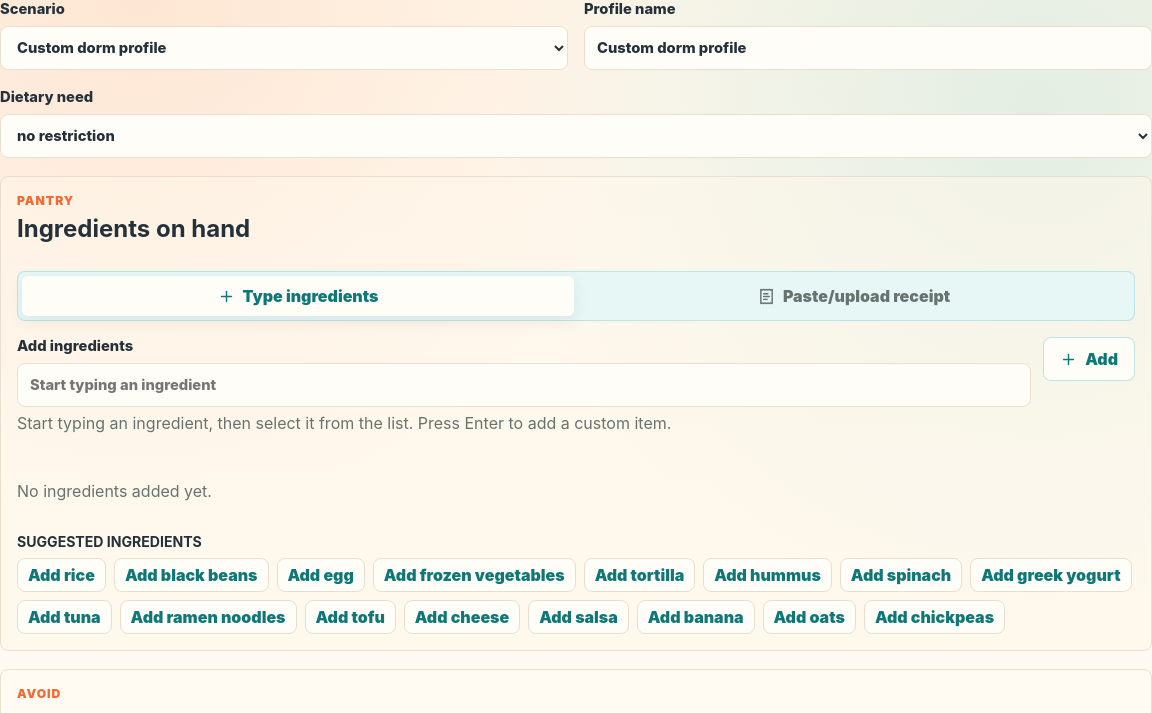
Test case: PreferenceForm › adds suggested ingredients as chips
Click the button "Add tuna" at (64, 617), box [17,600,112,634]
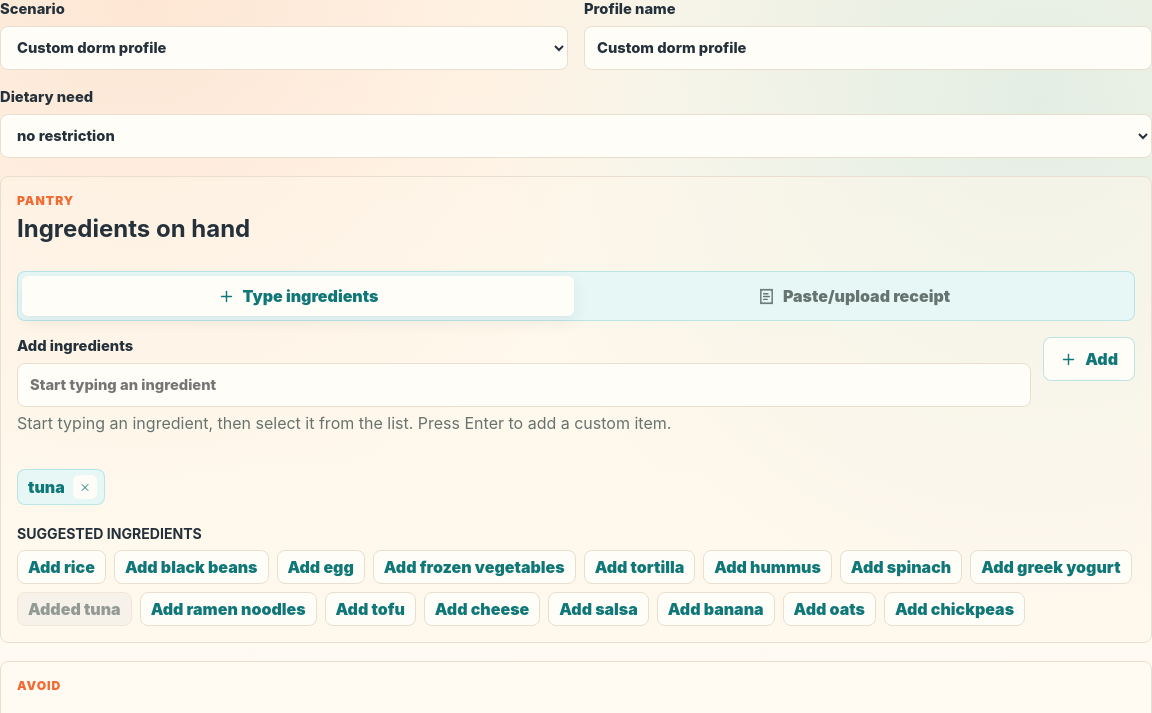
Expected: the text "tuna" is shown, [17,469,105,505]
Expected: the button "Added tuna" is disabled, [17,592,132,626]
